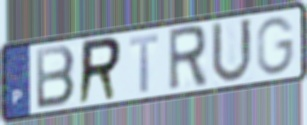B: (34, 43, 77, 112)
G: (255, 14, 297, 77)
R: (76, 34, 124, 108), (166, 23, 210, 95)
T: (127, 32, 160, 95)
U: (210, 16, 255, 86)
